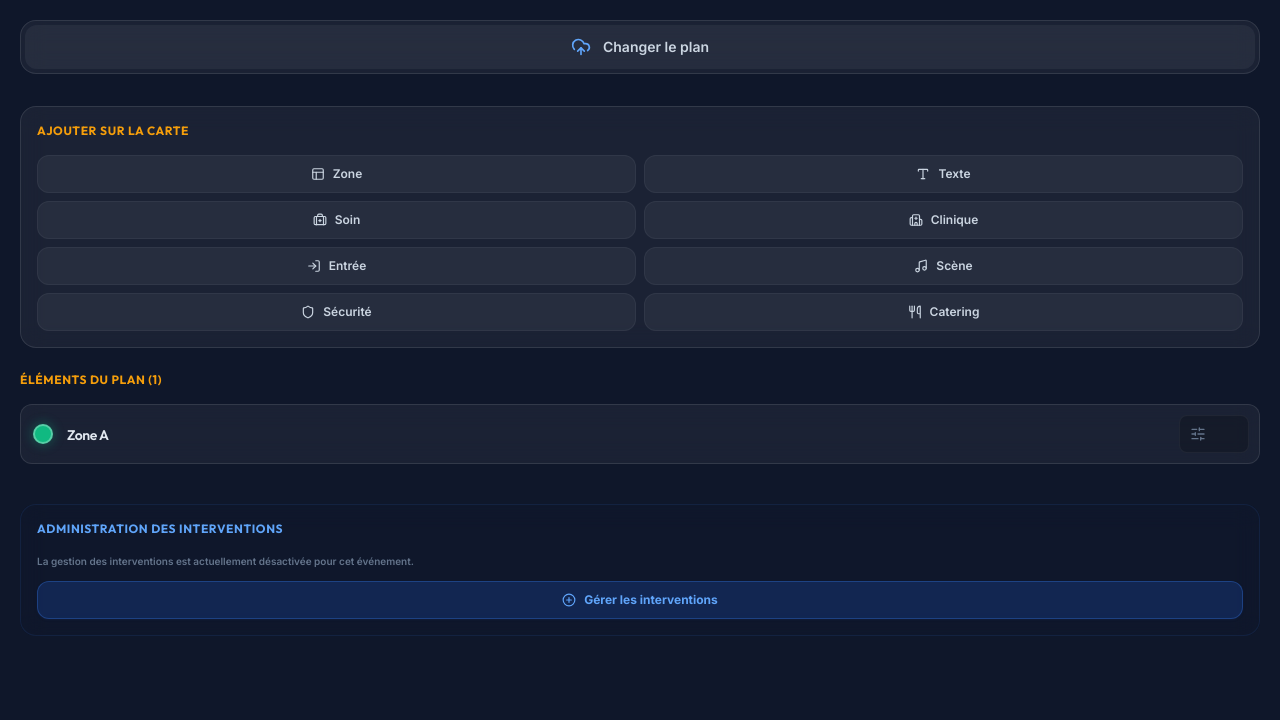
Sidebar Component › allows enabling interventions and displays success modal when hasInterventions is false
Expected: the text "La gestion des interventions est actuellement désactivée pour cet événement" is shown, [37,555,414,567]
Note: Click to enable
Click the button "Gérer les interventions".
click(640, 600)  # box [37,581,1243,619]
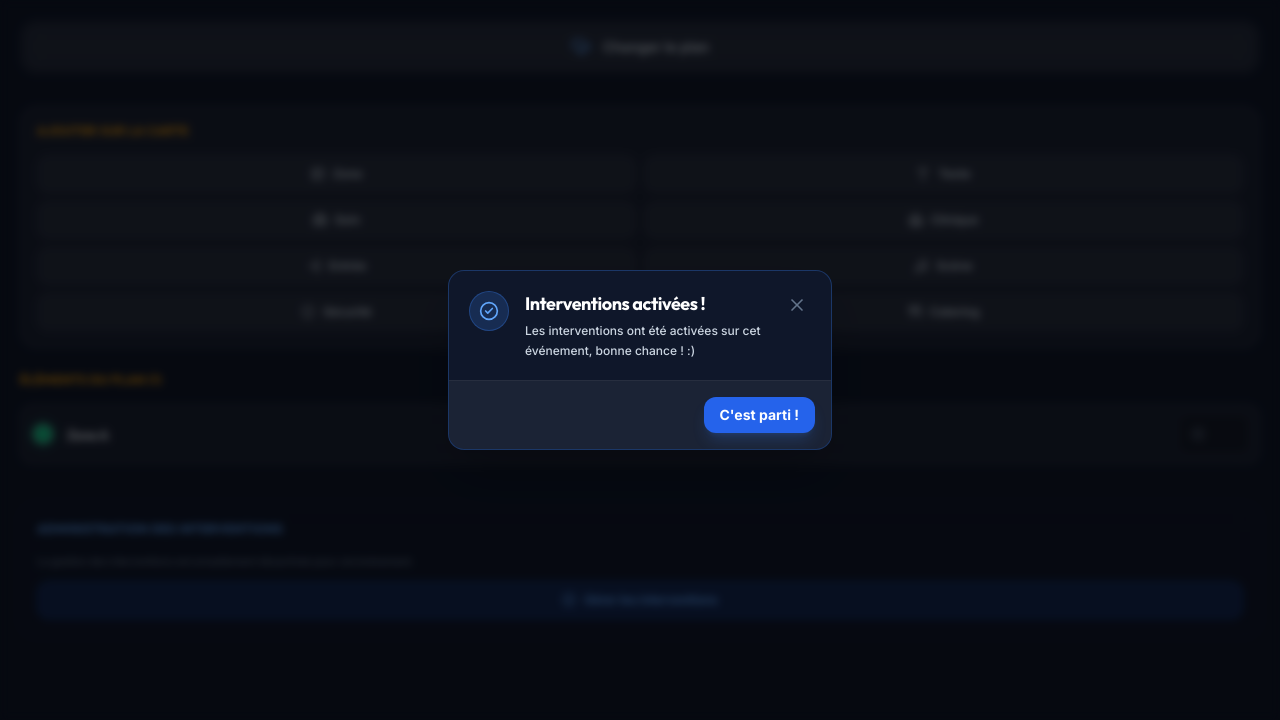
Now the heading "Interventions activées !" is shown, box [525,292,705,315]
Now the text "bonne chance !" is shown, box [525,323,761,358]
Note: Dismiss modal
Click the button "C'est parti !".
click(759, 415)  # box [704,397,815,433]
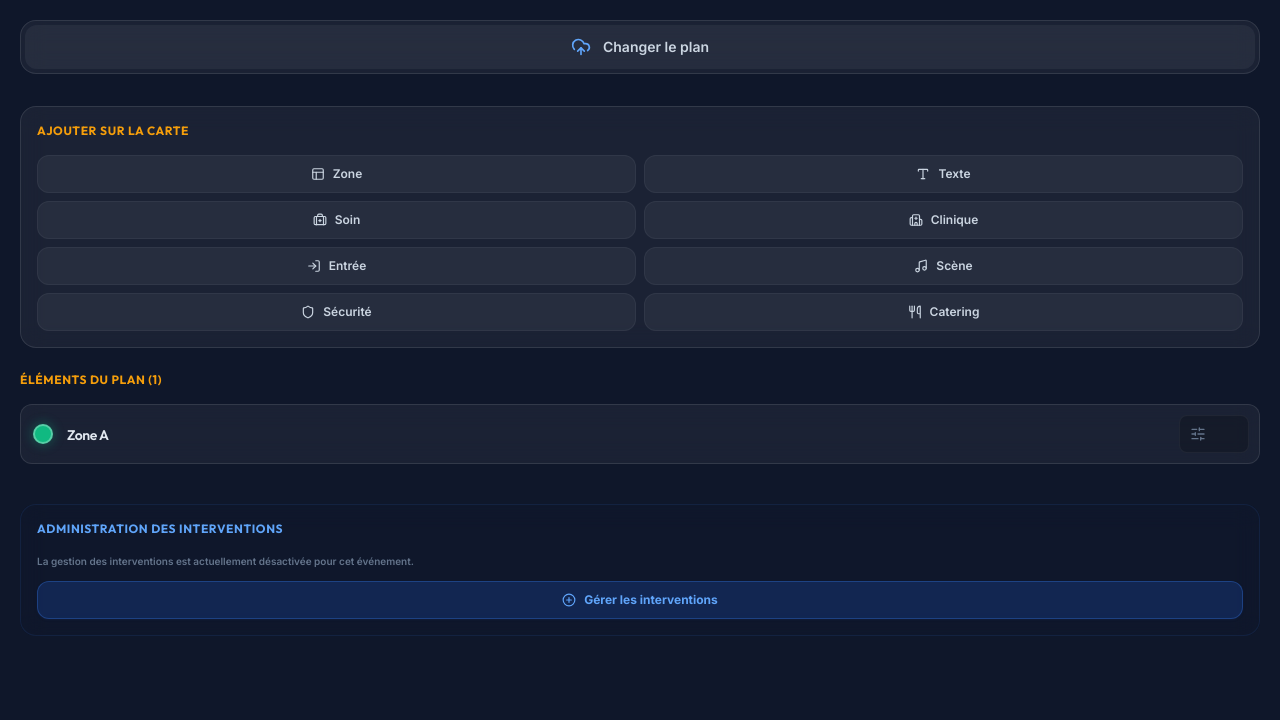
Now the heading "Interventions activées !" is gone
